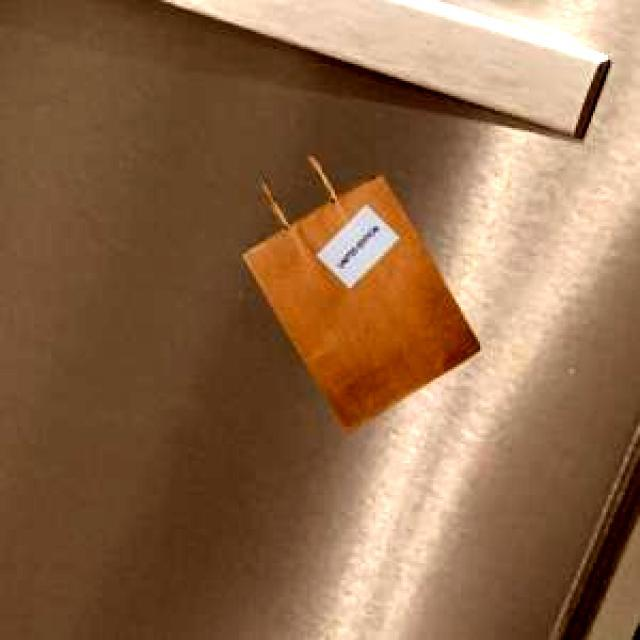Paper_Bag: (240, 152, 477, 428)
